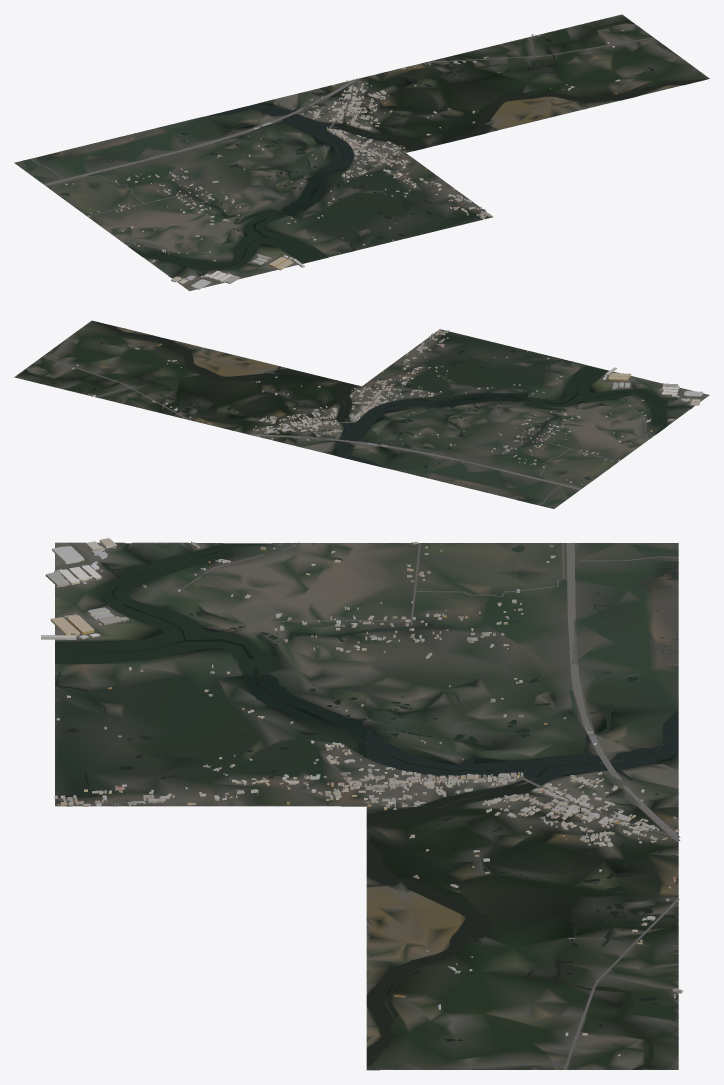
3 renders of one model, top to bottom at view 1: azimuth 30°, elevation 25°; view 2: azimuth 150°, elevation 25°; view 3: azimuth 270°, elevation 25°, orthographic. The views are drawn at different scales.
Visible parts, largest first — view 1: ground, water, buildings, roads; view 2: ground, water, buildings, roads; view 3: ground, water, buildings, roads.
Boxes of the visible parts, x1,y1,x2,y2 form: ground: [14, 14, 709, 291]; water: [36, 22, 705, 276]; buildings: [53, 29, 623, 289]; roads: [30, 37, 653, 252]; ground: [14, 320, 709, 508]; water: [24, 321, 691, 504]; buildings: [43, 329, 702, 485]; roads: [42, 331, 648, 505]; ground: [55, 542, 678, 1070]; water: [55, 543, 678, 1069]; buildings: [41, 538, 682, 1056]; roads: [66, 542, 680, 1069].
Bounding box in the file's own units: 5634 × 22.7 × 2883.
